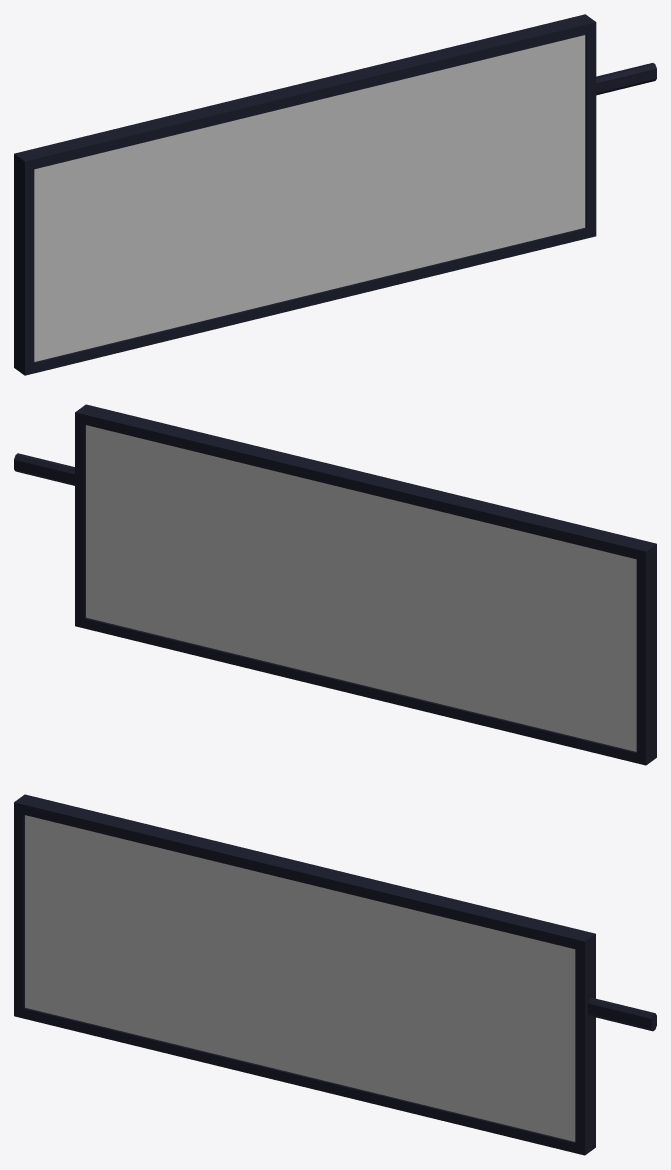
The model's file is Sign_Laundromat.fbx.
3 views of the same model, one above another, from view 1: azimuth 30°, elevation 25°; view 2: azimuth 150°, elevation 25°; view 3: azimuth 330°, elevation 25° (orthographic).
Parts seen in each view (by area): view 1: Cube.470; view 2: Cube.470; view 3: Cube.470.
Part boxes in pixels (x1,y1,x2,y2): Cube.470: (14, 14, 656, 375); Cube.470: (14, 404, 656, 765); Cube.470: (14, 794, 656, 1155).
Size of the model in its own units: 248 by 79.87 by 7.35.
